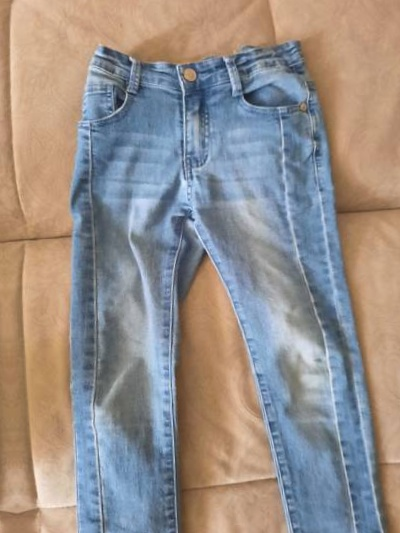Pants: (46, 25, 400, 533)
